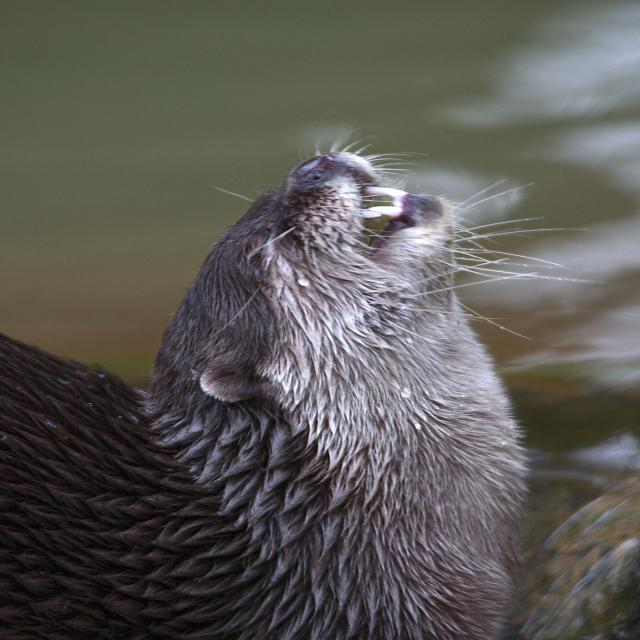otter: (1, 154, 524, 640)
